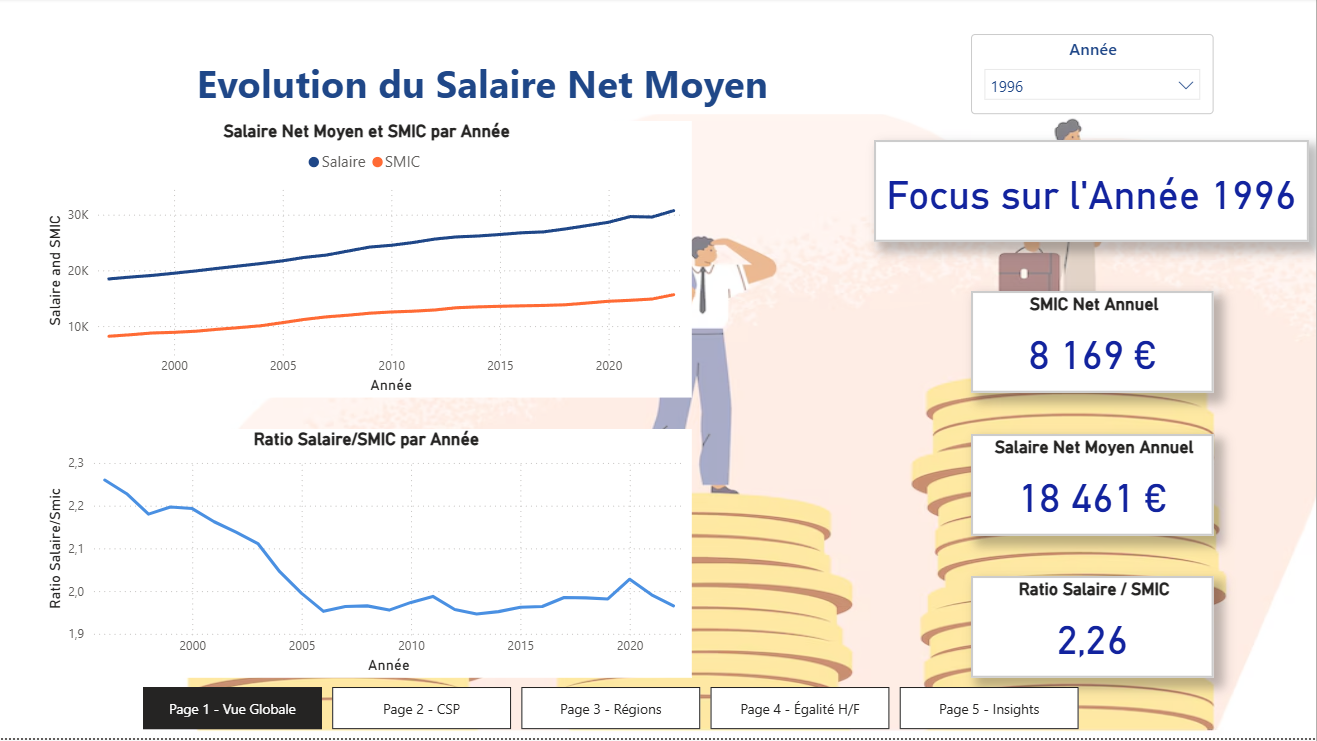

Layout of this report page (visuals, bound fields, positions):
{"tool":"powerbi","page":{"name":"Page 1 - Vue Globale","canvas":[1280,720],"ordinal":0},"visuals":[{"type":"lineChart","title":"Salaire Net Moyen et  SMIC par Année","fields":{"Y":["_Measure.Salaire","_Measure.SMIC"],"Category":["SMIC.Date"]},"box":[39.9,119.7,633.4,269.2],"z":0},{"type":"slicer","title":"Année","fields":{"Values":["_Calendrier.Annee"]},"box":[944.2,34.6,235.5,78.2],"z":1000},{"type":"lineChart","title":"Ratio Salaire/SMIC par Année","fields":{"Category":["_Calendrier.Date.Variation.Date Hierarchy.Year"],"Y":["_Measure.Ratio Salaire/Smic"]},"box":[39.9,419.2,633.2,242.2],"z":2000},{"type":"card","title":"Salaire Net Moyen Annuel","fields":{"Values":["_Measure.Salaire"]},"box":[944.2,423.6,235.5,99],"z":3000},{"type":"card","title":"SMIC Net Annuel","fields":{"Values":["_Measure.SMIC"]},"box":[944.2,285,235.5,99],"z":4000},{"type":"card","title":"Ratio Salaire / SMIC","fields":{"Values":["_Measure.Ratio Salaire/Smic"]},"box":[944.2,562.1,235.5,99],"z":5000},{"type":"textbox","box":[25.7,34.6,887.8,78.2],"z":6000},{"type":"card","fields":{"Values":["_Measure.Titre Dyna"]},"box":[850.1,138.6,422.6,99],"z":7000},{"type":"pageNavigator","box":[139.1,670.2,913.3,41.8],"z":7001}]}

Visuals, with their boxes in screenshot pixels (x1, y1, x2, y2), scaled from the page's 1280x720 canvas onto the 1317x741 screenshot:
"Salaire Net Moyen et  SMIC par Année" lineChart: l=41, t=123, r=693, b=400
"Année" slicer: l=971, t=36, r=1214, b=116
"Ratio Salaire/SMIC par Année" lineChart: l=41, t=431, r=693, b=681
"Salaire Net Moyen Annuel" card: l=971, t=436, r=1214, b=538
"SMIC Net Annuel" card: l=971, t=293, r=1214, b=395
"Ratio Salaire / SMIC" card: l=971, t=578, r=1214, b=680
textbox: l=26, t=36, r=940, b=116
card - _Measure.Titre Dyna: l=875, t=143, r=1309, b=245
pageNavigator: l=143, t=690, r=1083, b=733
